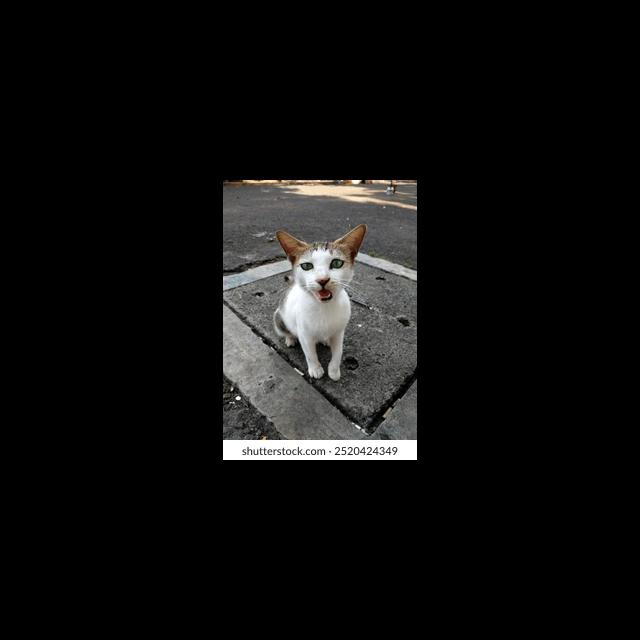animals: (277, 228, 362, 308)
